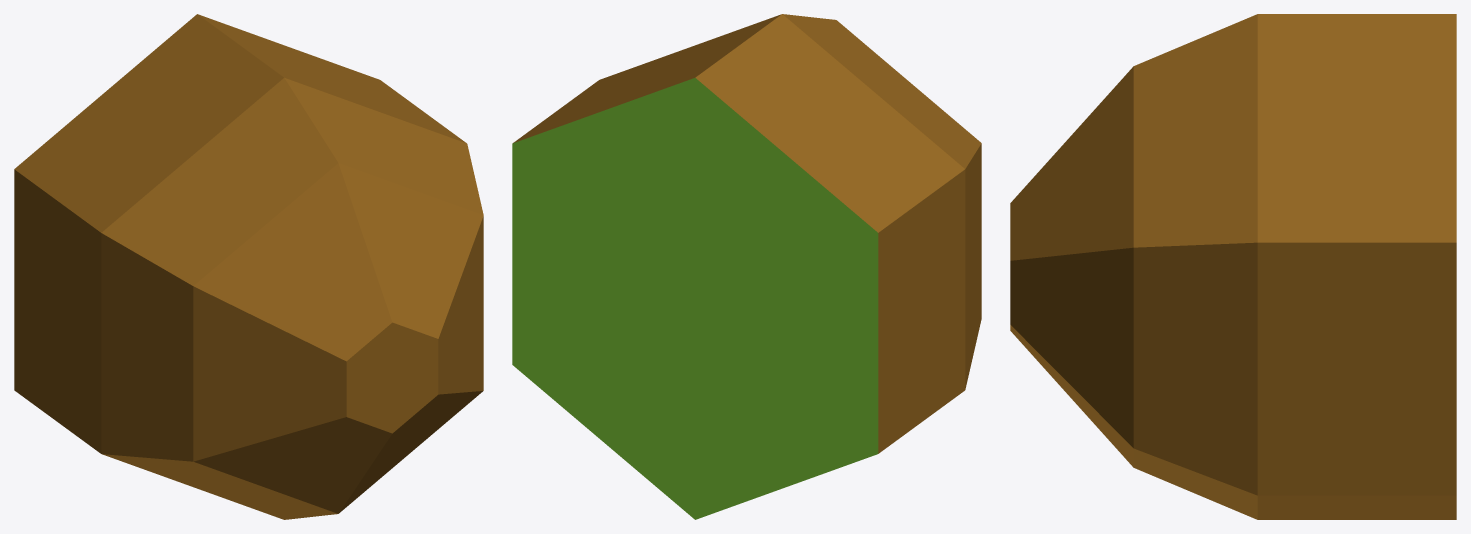
File: Kiwi.fbx
3 views of the same model, side by side, from view 1: azimuth 30°, elevation 25°; view 2: azimuth 150°, elevation 25°; view 3: azimuth 270°, elevation 25° (orthographic). The views are drawn at different scales.
Visible parts, largest first — view 1: Cylinder; view 2: Cylinder; view 3: Cylinder.
Boxes of the visible parts, x1,y1,x2,y2 form: Cylinder: (14, 14, 483, 519); Cylinder: (512, 14, 981, 519); Cylinder: (1010, 14, 1456, 519).
Bounding box in the file's own units: 218 × 252 × 202.
